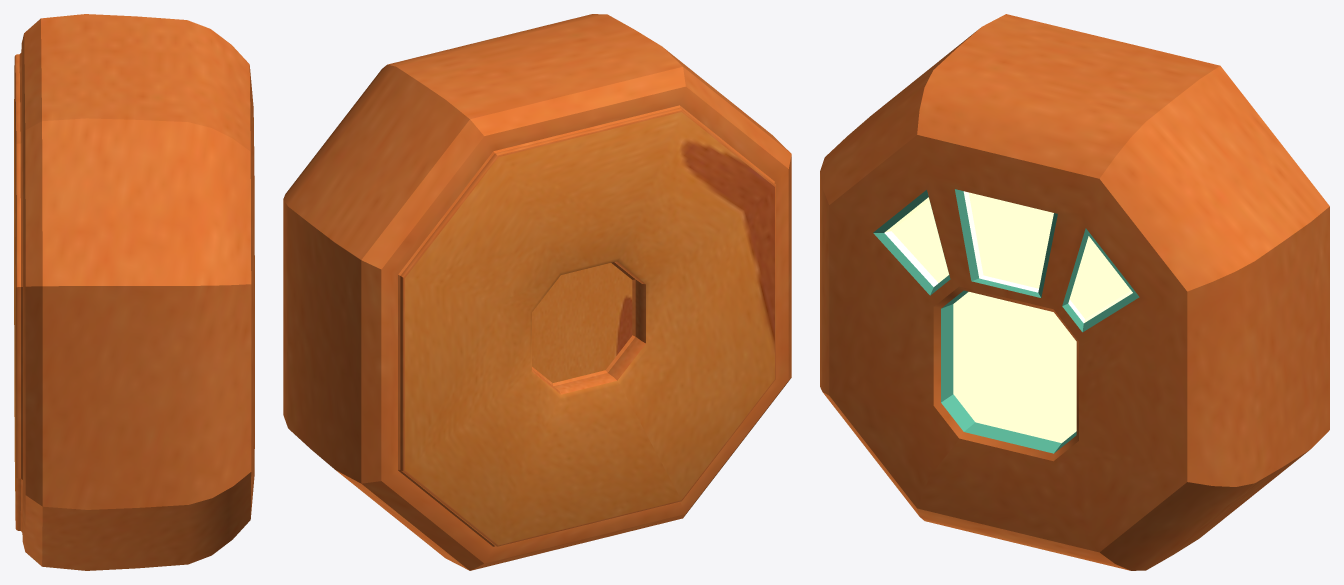
The model's file is PataBACT.fbx.
The picture shows the model from 3 angles, left to right: view 1: azimuth 30°, elevation 25°; view 2: azimuth 150°, elevation 25°; view 3: azimuth 270°, elevation 25°; orthographic projection.
Visible parts, largest first — view 1: PatasB; view 2: PatasB; view 3: PatasB.
Part boxes in pixels (bbox=[...]): PatasB: bbox=[14, 14, 254, 570]; PatasB: bbox=[283, 14, 791, 570]; PatasB: bbox=[820, 14, 1329, 570].
Bounding box in the file's own units: 5.03 × 6.1 × 6.14.
